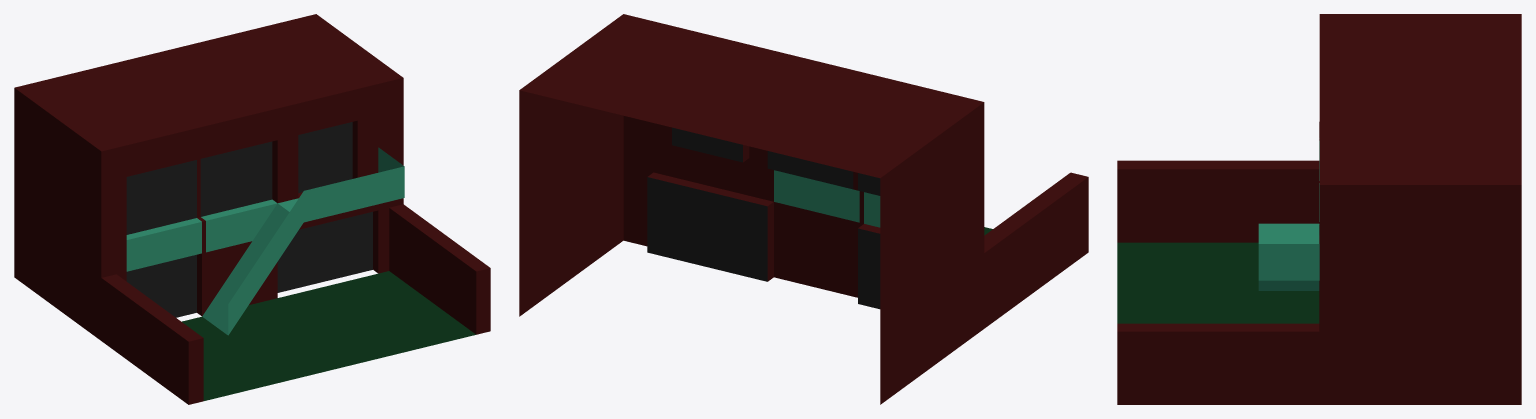
The model's file is Edificio-2.fbx.
3 views of the same model, side by side, from view 1: azimuth 30°, elevation 25°; view 2: azimuth 150°, elevation 25°; view 3: azimuth 270°, elevation 25° (orthographic). The views are drawn at different scales.
Visible parts, largest first — view 1: Plane; view 2: Plane; view 3: Plane.
Boxes of the visible parts, x1,y1,x2,y2 form: Plane: [14, 14, 490, 404]; Plane: [519, 14, 1088, 404]; Plane: [1117, 14, 1521, 404].
Bounding box in the file's own units: 1000 × 600 × 1000.
